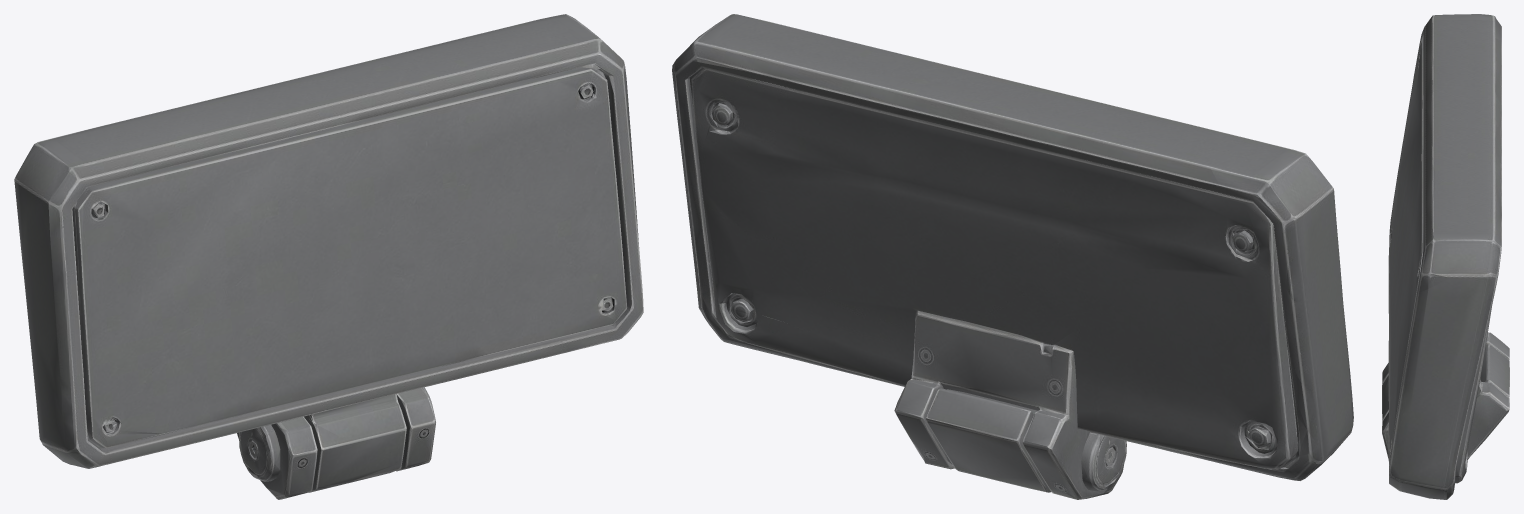
The model's file is shared_flak_tower_large_option__radar_aperture.glb.
The picture shows the model from 3 angles, left to right: view 1: azimuth 30°, elevation 25°; view 2: azimuth 150°, elevation 25°; view 3: azimuth 270°, elevation 25°; orthographic projection. The views are drawn at different scales.
Parts seen in each view (by area): view 1: mesh_node; view 2: mesh_node; view 3: mesh_node.
Part boxes in pixels (bbox=[...]): mesh_node: bbox=[14, 14, 643, 499]; mesh_node: bbox=[672, 14, 1353, 499]; mesh_node: bbox=[1382, 14, 1509, 499].
Bounding box in the file's own units: 2.32 × 1.42 × 0.5081.
1 material, 1 textured.
